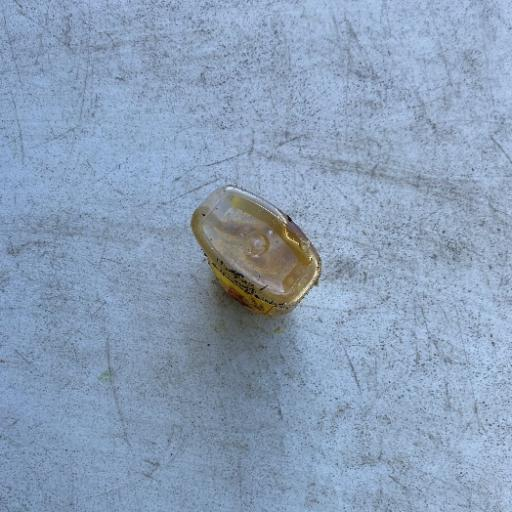Plastic: (188, 182, 324, 320)
